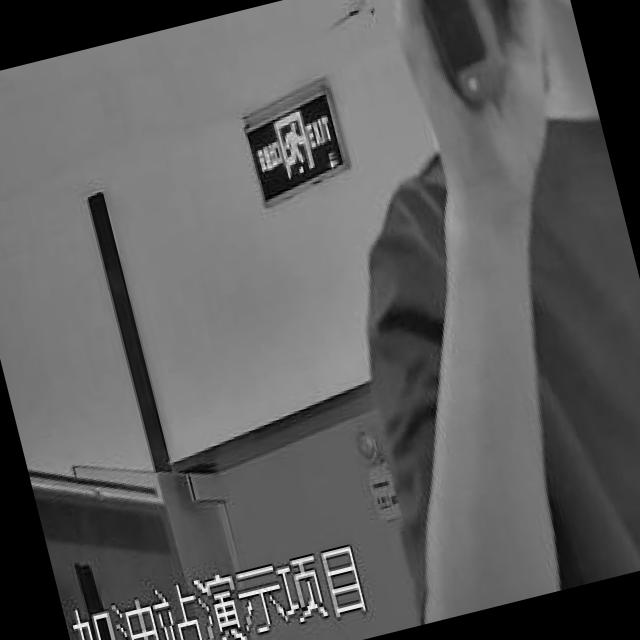Guns: (382, 0, 585, 167)
